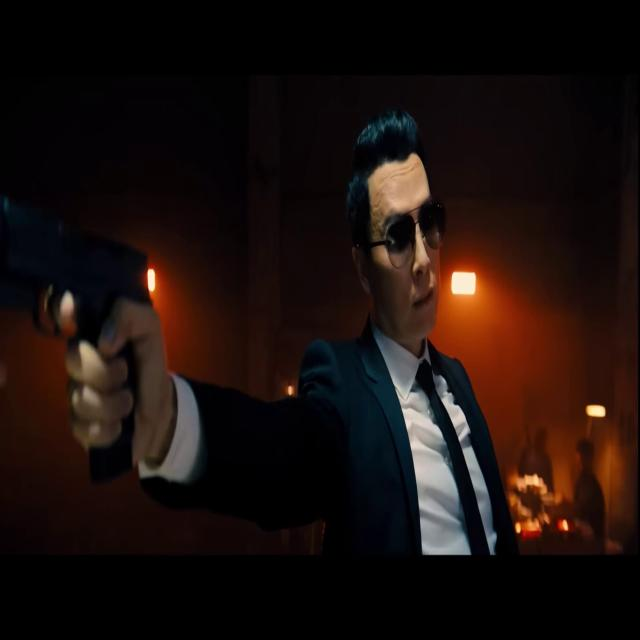weapons: (0, 158, 173, 505)
